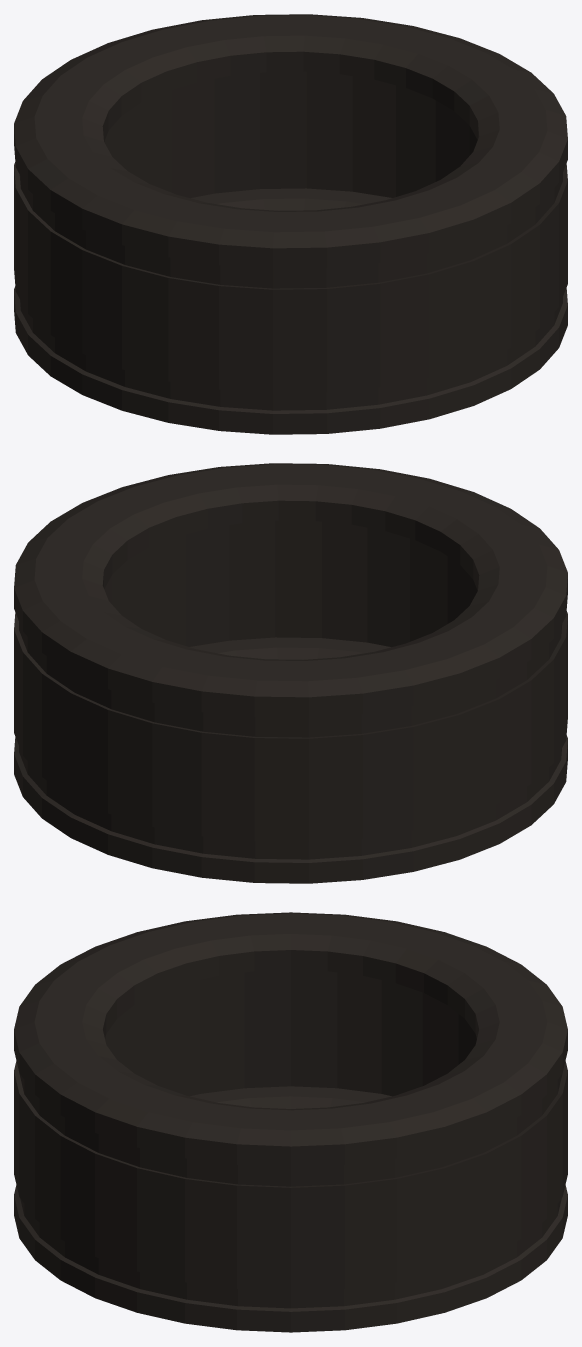
Rendered from Tire.fbx.
3 renders of one model, top to bottom at view 1: azimuth 30°, elevation 25°; view 2: azimuth 150°, elevation 25°; view 3: azimuth 270°, elevation 25°, orthographic.
Visible parts, largest first — view 1: Cylinder.032; view 2: Cylinder.032; view 3: Cylinder.032.
Part boxes in pixels (x1,y1,x2,y2): Cylinder.032: [14, 14, 567, 434]; Cylinder.032: [14, 463, 567, 883]; Cylinder.032: [14, 912, 567, 1332].
Size of the model in its own units: 200 by 80 by 200.
